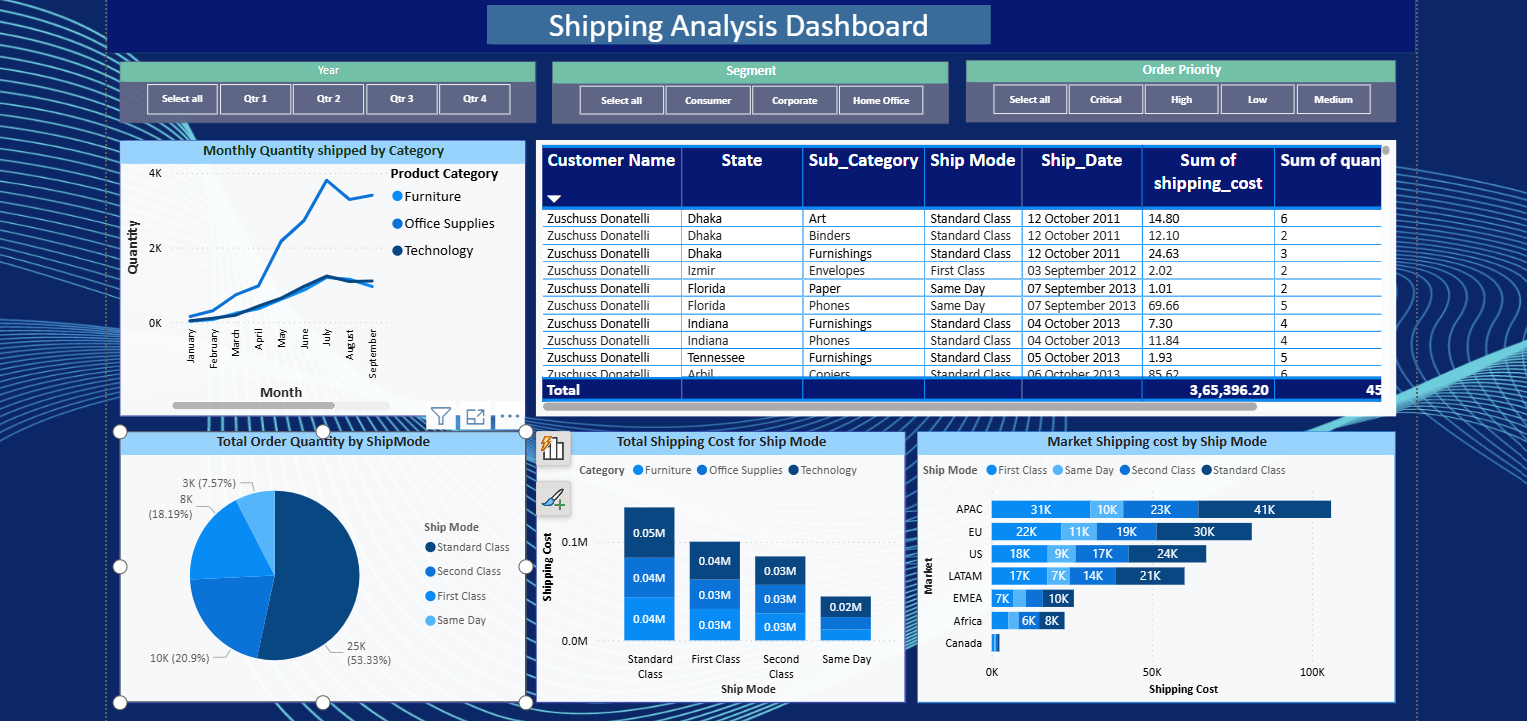

What the dashboard file says about the page in this screenshot:
{"tool":"powerbi","page":{"name":"Shipping_Dashboard","canvas":[1280,720],"ordinal":2},"visuals":[{"type":"shape","box":[0,0,1280.2,57],"z":0},{"type":"textbox","title":"Shipping Analysis Dashboard","box":[372.1,9.3,493,38.4],"z":1000},{"type":"slicer","title":"Year","fields":{"Values":["SuperStoreOrders2.order_date.Variation.Date Hierarchy.Quarter"]},"box":[12.2,64.8,407.2,59.9],"z":2000},{"type":"slicer","title":"Segment","fields":{"Values":["SuperStoreOrders2.segment"]},"box":[434.9,65.1,388.4,60.5],"z":3000},{"type":"barChart","title":"Market Shipping cost by Ship Mode","fields":{"Y":["SuperStoreOrders2.shipping_cost"],"Series":["SuperStoreOrders2.ship_mode"],"Category":["SuperStoreOrders2.Market"]},"box":[792.4,426.8,468.3,265.4],"z":4000},{"type":"columnChart","title":"Total Shipping Cost for Ship Mode ","fields":{"Y":["SuperStoreOrders2.shipping_cost"],"Series":["SuperStoreOrders2.Category"],"Category":["SuperStoreOrders2.ship_mode"]},"box":[419.4,426.8,362,265.4],"z":5000},{"type":"lineChart","title":"Monthly Quantity shipped by Category","fields":{"Category":["SuperStoreOrders2.Ship_Date.Variation.Date Hierarchy.Month"],"Series":["SuperStoreOrders2.Category"],"Y":["SuperStoreOrders2.quantity"]},"box":[12.2,141.8,397.4,270.2],"z":6000},{"type":"pieChart","title":"Total Order Quantity by ShipMode","fields":{"Y":["SuperStoreOrders2.quantity"],"Category":["SuperStoreOrders2.ship_mode"]},"box":[12.2,426.8,397.4,265.4],"z":7000},{"type":"slicer","title":"Order Priority","fields":{"Values":["SuperStoreOrders2.order_priority"]},"box":[840.1,63.6,420.7,61.1],"z":8000},{"type":"tableEx","fields":{"Values":["SuperStoreOrders2.customer_name","SuperStoreOrders2.State","SuperStoreOrders2.Sub_Category","SuperStoreOrders2.ship_mode","SuperStoreOrders2.ship_date","SuperStoreOrders2.shipping_cost","SuperStoreOrders2.quantity","SuperStoreOrders2.sales"]},"box":[419.4,141.8,841.3,270.2],"z":9000}]}

Visuals, with their boxes in screenshot pixels (x1, y1, x2, y2):
shape: {"left": 103, "top": 0, "right": 1412, "bottom": 50}
"Shipping Analysis Dashboard" textbox: {"left": 484, "top": 2, "right": 988, "bottom": 41}
"Year" slicer: {"left": 116, "top": 58, "right": 532, "bottom": 120}
"Segment" slicer: {"left": 548, "top": 59, "right": 945, "bottom": 120}
"Market Shipping cost by Ship Mode" barChart: {"left": 913, "top": 428, "right": 1392, "bottom": 700}
"Total Shipping Cost for Ship Mode " columnChart: {"left": 532, "top": 428, "right": 902, "bottom": 700}
"Monthly Quantity shipped by Category" lineChart: {"left": 116, "top": 137, "right": 522, "bottom": 413}
"Total Order Quantity by ShipMode" pieChart: {"left": 116, "top": 428, "right": 522, "bottom": 700}
"Order Priority" slicer: {"left": 962, "top": 57, "right": 1392, "bottom": 120}
tableEx - SuperStoreOrders2.customer_name x SuperStoreOrders2.State: {"left": 532, "top": 137, "right": 1392, "bottom": 413}
